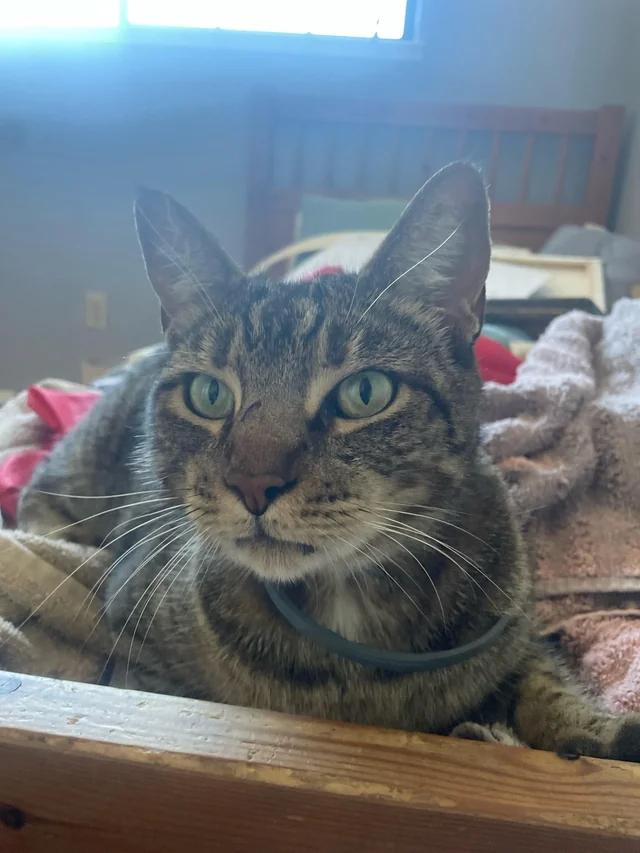cut: (211, 380, 296, 489)
